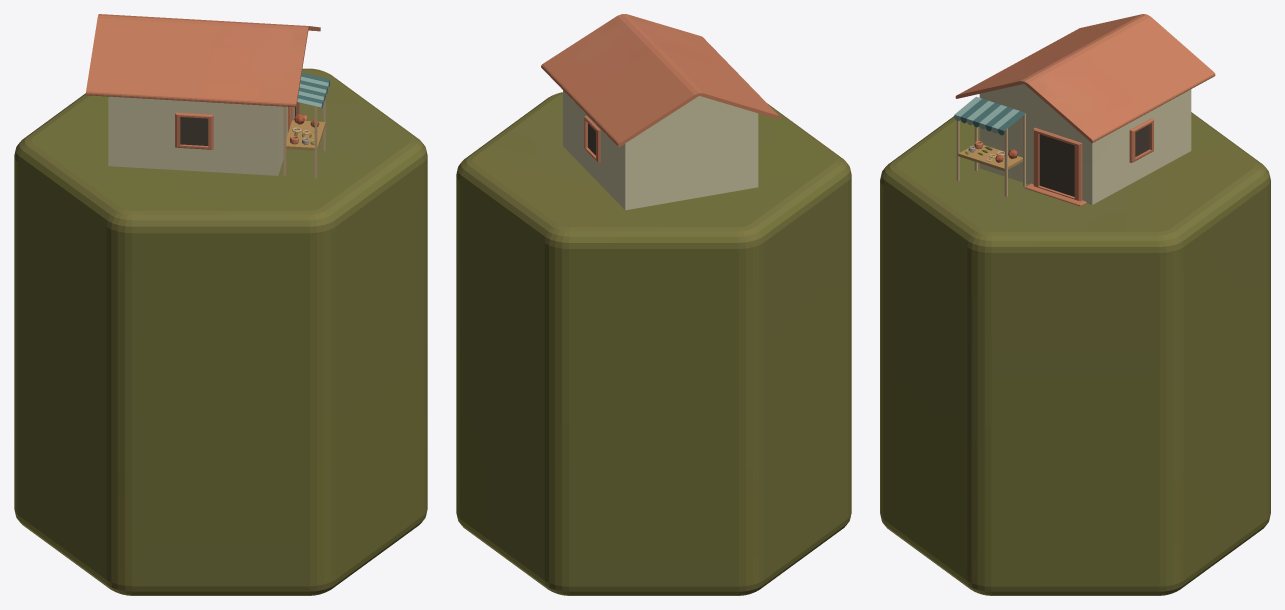
Rendered from Hex-home.glb.
3 renders of one model, left to right at view 1: azimuth 30°, elevation 25°; view 2: azimuth 150°, elevation 25°; view 3: azimuth 270°, elevation 25°, orthographic. The views are drawn at different scales.
Visible parts, largest first — view 1: Cylinder, Cube.079_Material.001_0; view 2: Cylinder, Cube.079_Material.001_0; view 3: Cylinder, Cube.079_Material.001_0.
Boxes of the visible parts, x1,y1,x2,y2 form: Cylinder: (14,68,427,595); Cube.079_Material.001_0: (86,14,329,178); Cylinder: (456,92,851,595); Cube.079_Material.001_0: (541,14,780,210); Cylinder: (880,112,1270,595); Cube.079_Material.001_0: (954,14,1215,206).
Bounding box in the file's own units: 1.73 × 2.62 × 1.95.
Materials: 2 (2 with a texture image).
